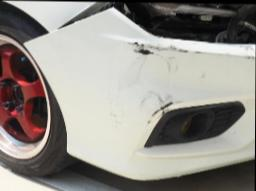Bumper: (23, 1, 256, 183)
